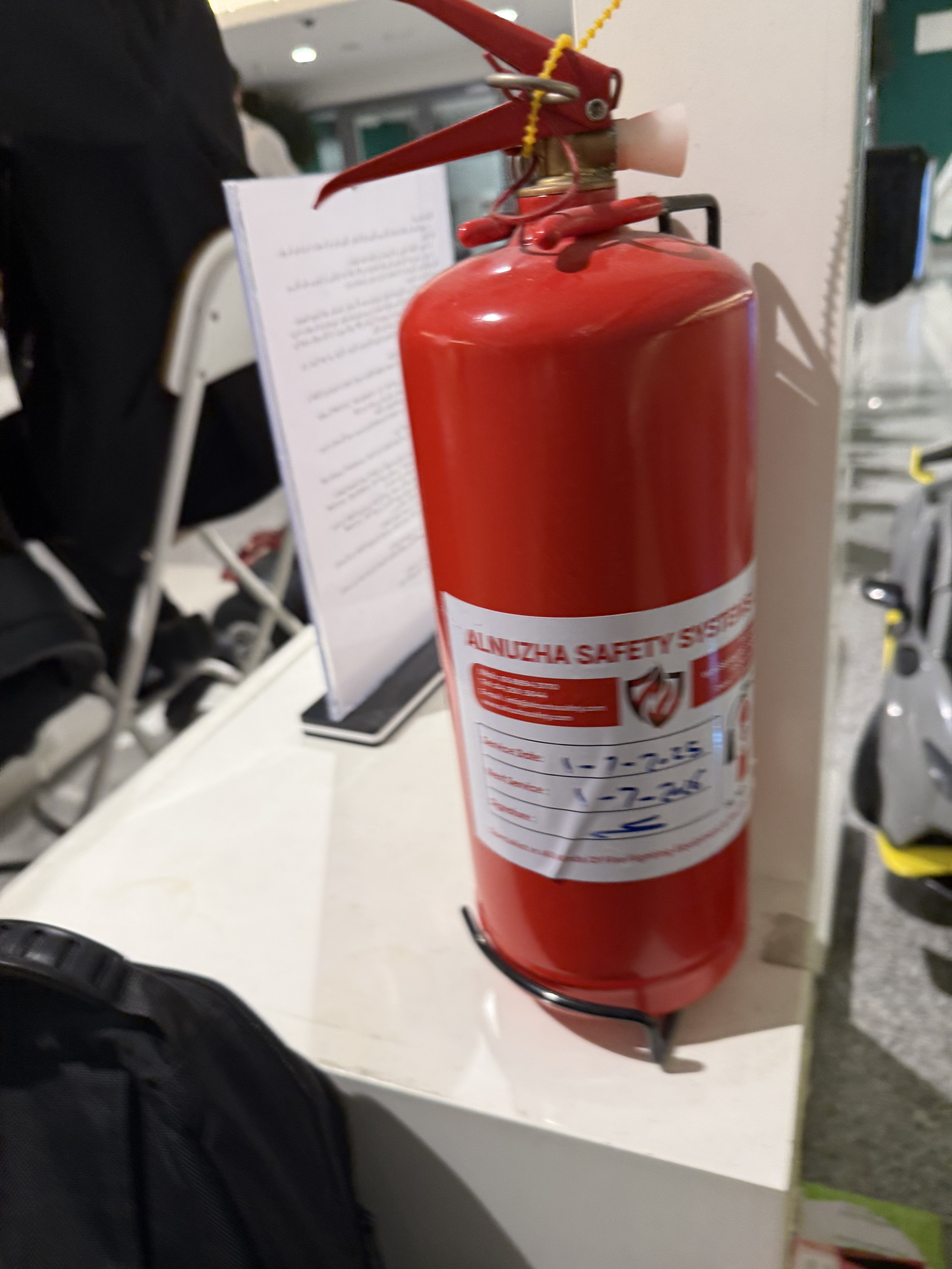fire_extinguisher: (314, 2, 760, 1060)
